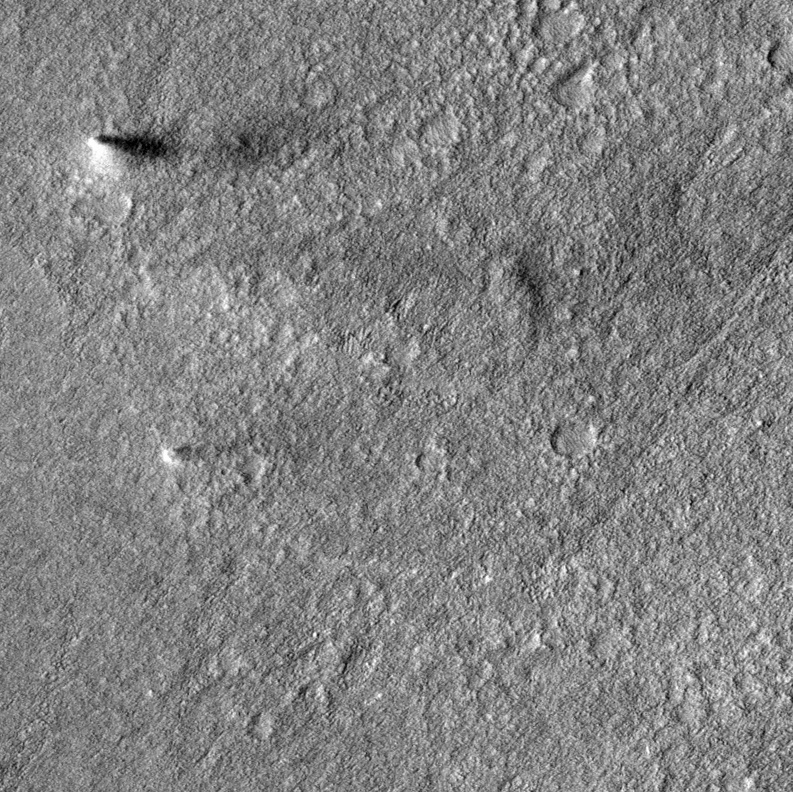dust_devil: (85, 127, 278, 184), (158, 441, 238, 468)
